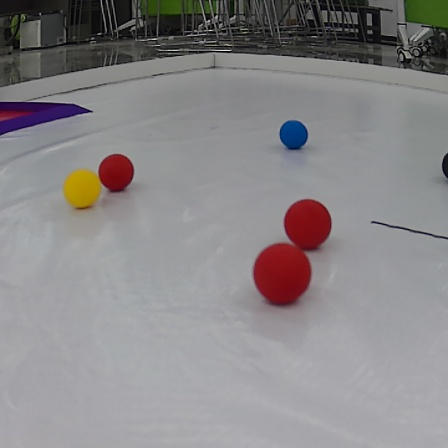blue: (278, 119, 309, 148)
red: (252, 240, 312, 302), (285, 197, 334, 247), (99, 153, 134, 192)
red_aim: (1, 94, 91, 132)
yellow: (63, 168, 101, 210)
